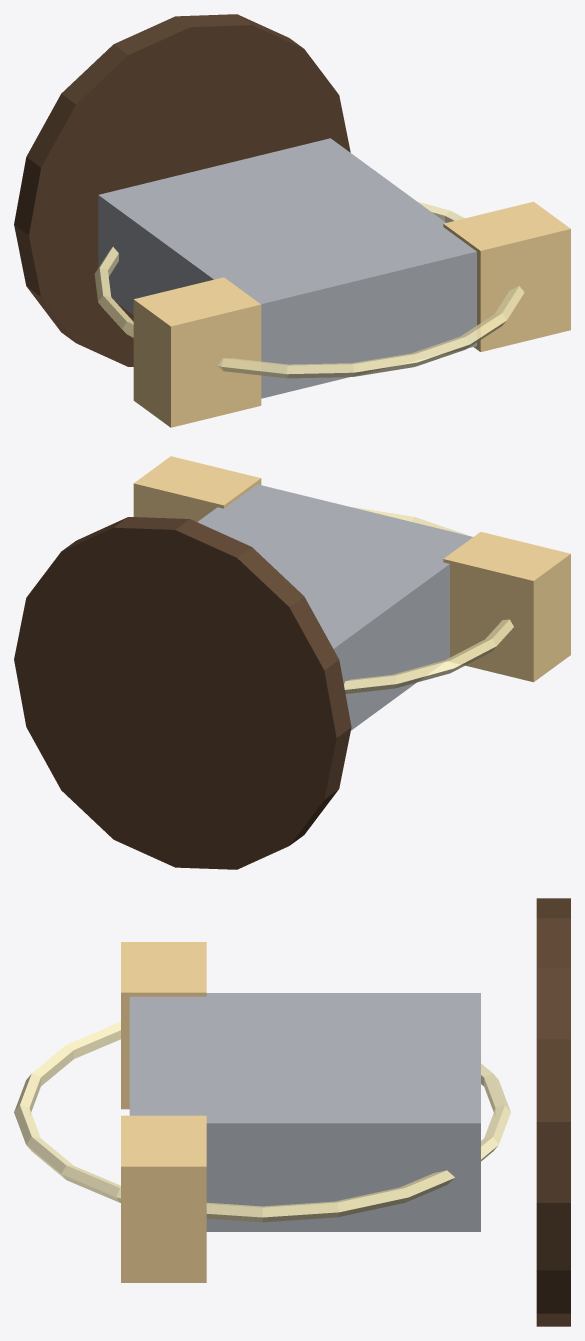
The model's file is 04_high_tier_magic_armor.glb.
The picture shows the model from 3 angles, top to bottom: view 1: azimuth 30°, elevation 25°; view 2: azimuth 150°, elevation 25°; view 3: azimuth 270°, elevation 25°; orthographic projection. The views are drawn at different scales.
Parts seen in each view (by area): view 1: chest_plate, armor_display_base, pauldron_l, pauldron_r, armor_barrier_ring; view 2: armor_display_base, chest_plate, pauldron_l, pauldron_r, armor_barrier_ring; view 3: chest_plate, armor_display_base, pauldron_r, armor_barrier_ring, pauldron_l.
Part boxes in pixels (box(x1,y1,x2,y2)): chest_plate: box(98, 138, 476, 398); armor_display_base: box(14, 14, 350, 366); pauldron_l: box(133, 277, 261, 427); pauldron_r: box(443, 201, 570, 351); armor_barrier_ring: box(94, 202, 524, 378); armor_display_base: box(14, 517, 351, 869); chest_plate: box(197, 484, 472, 730); pauldron_l: box(443, 532, 570, 682); pauldron_r: box(133, 456, 261, 521); armor_barrier_ring: box(344, 507, 513, 693); chest_plate: box(129, 993, 480, 1231); armor_display_base: box(536, 898, 570, 1326); pauldron_r: box(121, 1115, 206, 1282); armor_barrier_ring: box(14, 1022, 510, 1222); pauldron_l: box(121, 942, 206, 1109).
Bounding box in the file's own units: 1.24 × 1 × 1.3.
